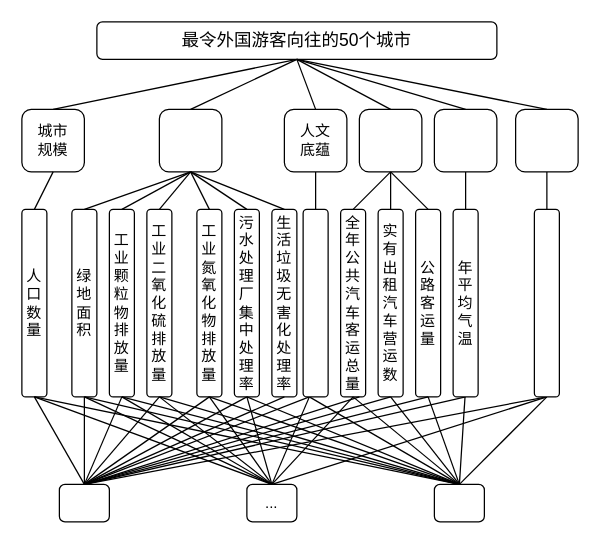
Some shapes in this 600 by 544 pixel diagram are drawn without their labels. The centre of each missing label's shape, as x and y in pixels:
"上海" goes at point (458, 502).
"交通 便利" goes at point (390, 140).
"北京" goes at point (83, 502).
"气候" goes at point (465, 140).
"环境 环保" goes at point (190, 140).
"美食" goes at point (546, 140).
"非遗数量" goes at point (315, 302).
"餐饮业就业人口" goes at point (546, 302).
